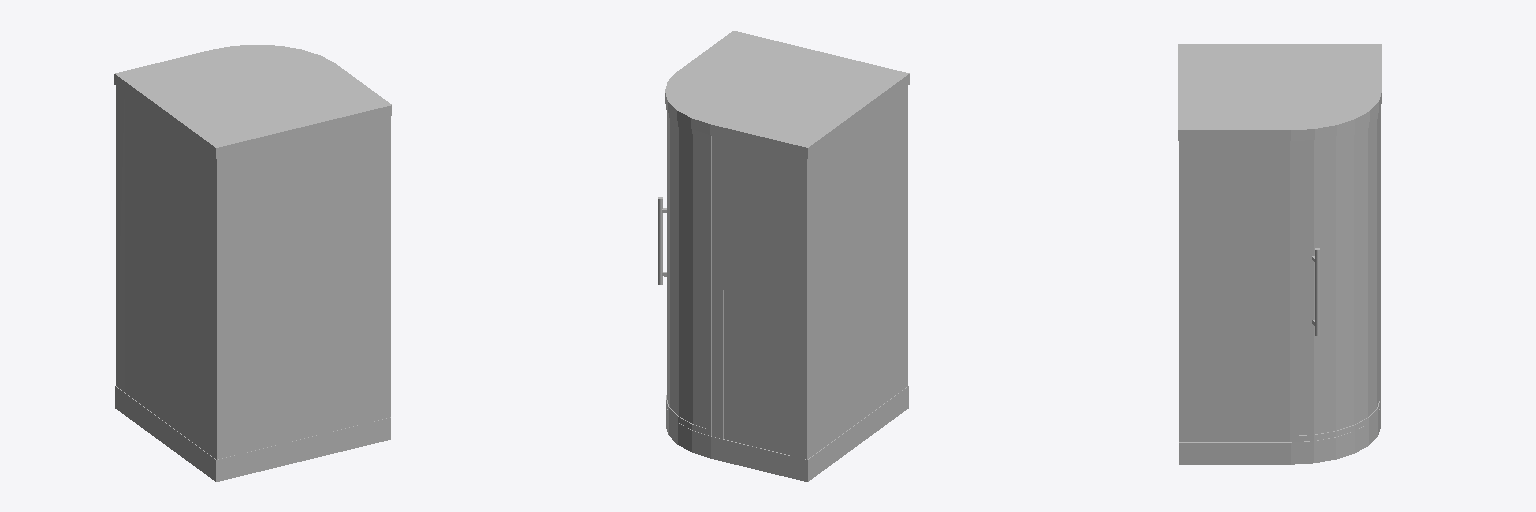
The model's file is shower.obj.
3 views of the same model, side by side, from view 1: azimuth 30°, elevation 25°; view 2: azimuth 150°, elevation 25°; view 3: azimuth 270°, elevation 25° (orthographic).
Parts seen in each view (by area): view 1: Cube.031; view 2: Cube.031; view 3: Cube.031.
Part boxes in pixels (bbox=[...]): Cube.031: bbox=[114, 45, 391, 481]; Cube.031: bbox=[658, 31, 909, 481]; Cube.031: bbox=[1178, 44, 1381, 464].
Size of the model in its own units: 1.11 by 1.95 by 1.08.